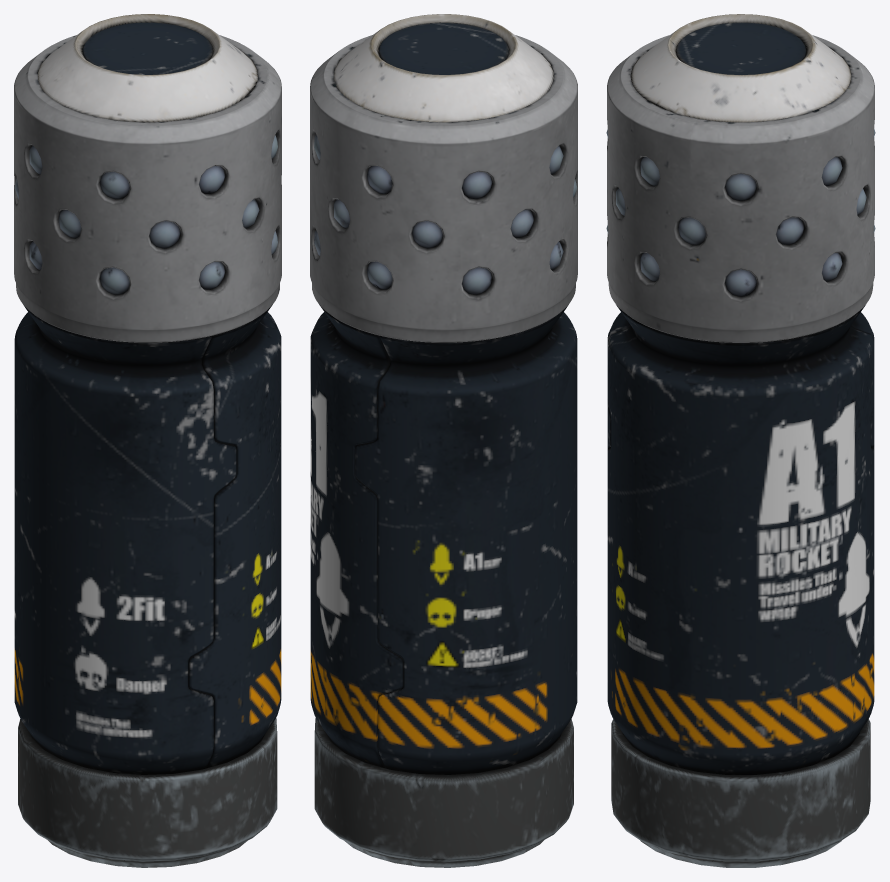
The model's file is SM_Missile02.fbx.
3 renders of one model, left to right at view 1: azimuth 30°, elevation 25°; view 2: azimuth 150°, elevation 25°; view 3: azimuth 270°, elevation 25°, orthographic.
Parts seen in each view (by area): view 1: SM_Missile02_LOD0; view 2: SM_Missile02_LOD0; view 3: SM_Missile02_LOD0.
Boxes of the visible parts, box(x1,y1,x2,y2) form: SM_Missile02_LOD0: box(14, 14, 281, 867); SM_Missile02_LOD0: box(310, 14, 577, 867); SM_Missile02_LOD0: box(606, 14, 875, 867).
Size of the model in its own units: 20.08 by 20.08 by 63.97.
1 material, 1 textured.
